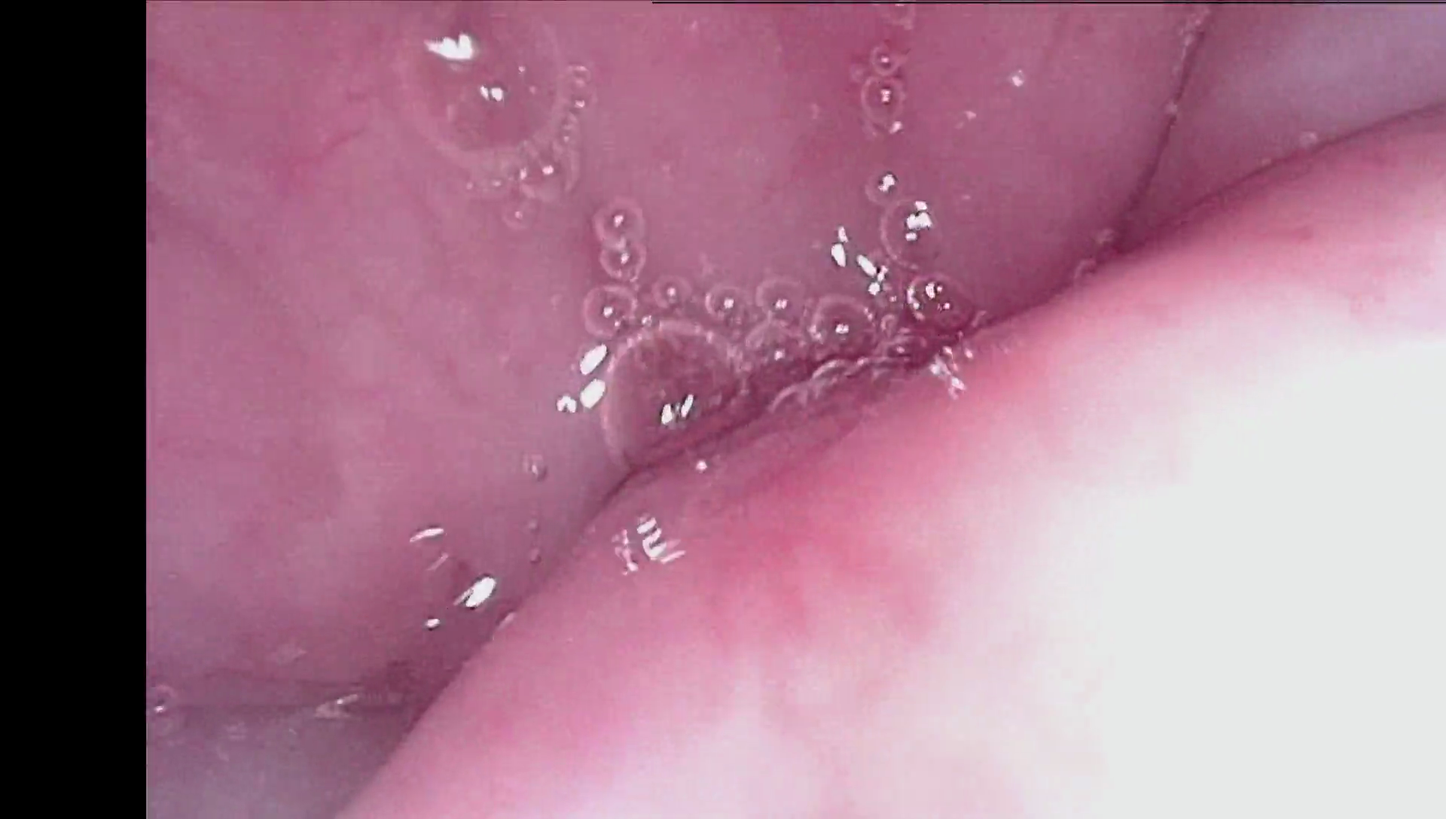close_wall: (550, 185, 1446, 819)
